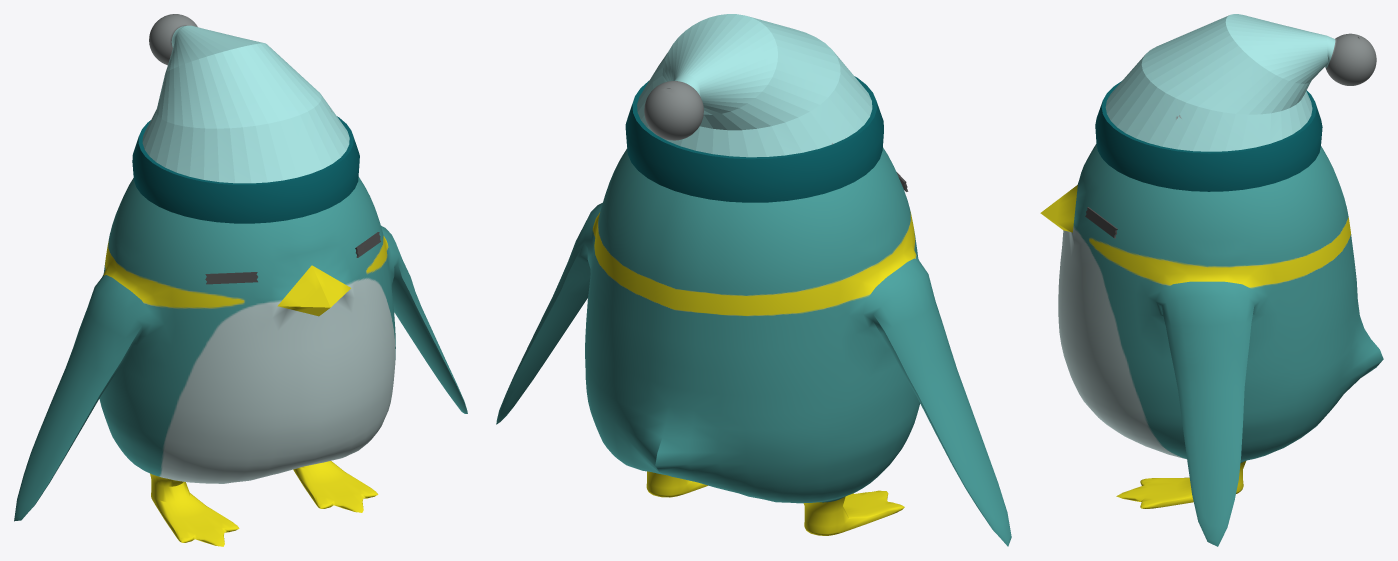
The model's file is penguin_blue_blink_02f.fbx.
The picture shows the model from 3 angles, left to right: view 1: azimuth 30°, elevation 25°; view 2: azimuth 150°, elevation 25°; view 3: azimuth 270°, elevation 25°; orthographic projection. The views are drawn at different scales.
Visible parts, largest first — view 1: ppp2, bousi, ai; view 2: ppp2, bousi; view 3: ppp2, bousi.
Part boxes in pixels (bbox=[...]): ppp2: bbox=[14, 177, 467, 546]; bousi: bbox=[132, 14, 359, 223]; ai: bbox=[205, 232, 380, 284]; ppp2: bbox=[496, 147, 1011, 546]; bousi: bbox=[625, 14, 883, 202]; ppp2: bbox=[1040, 144, 1383, 546]; bousi: bbox=[1095, 14, 1376, 191].
Bounding box in the file's own units: 21.75 × 20.43 × 14.4.
Materials: 1 (1 with a texture image).
